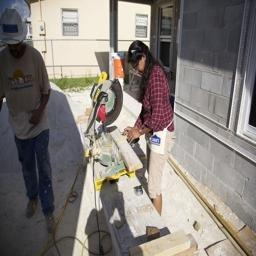hat: (1, 6, 34, 54)
no hat: (115, 37, 158, 74)
no vest: (1, 43, 58, 146), (128, 68, 184, 146)
